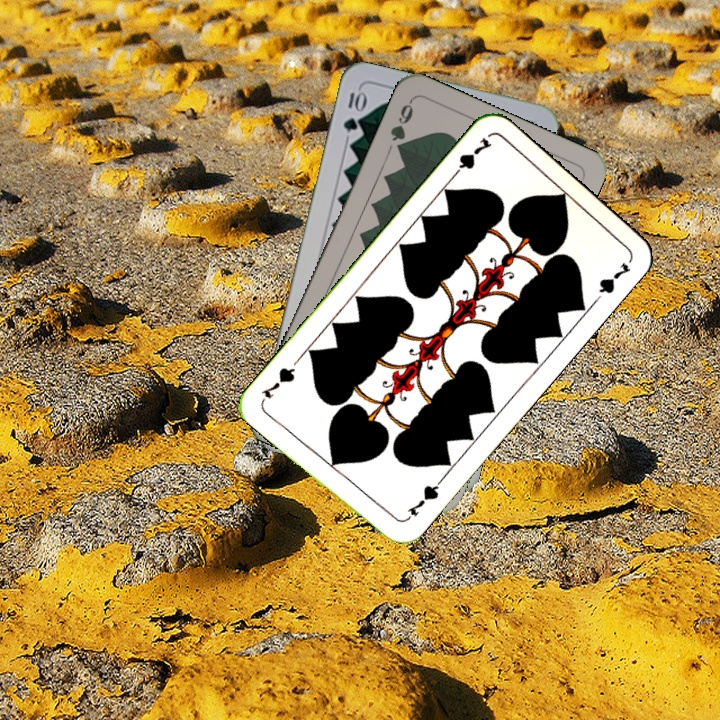G10: (339, 85, 367, 134)
G7: (447, 133, 495, 182), (400, 476, 445, 524)
G9: (386, 96, 416, 156)
